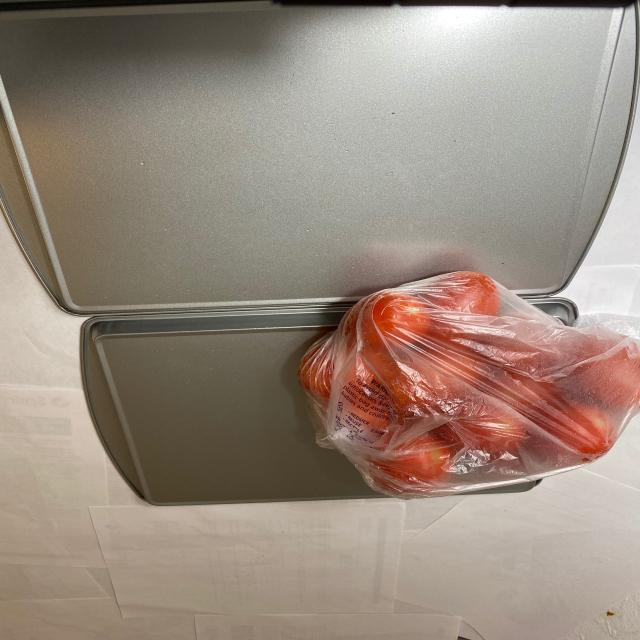tomato: (298, 276, 640, 496)
